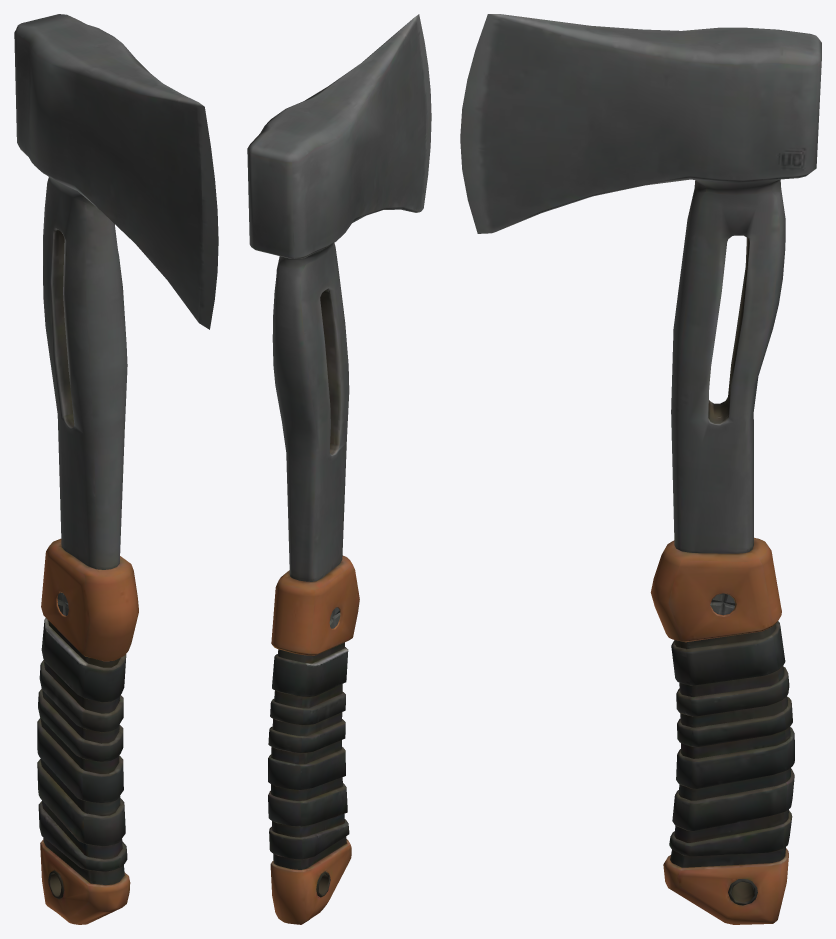
Rendered from hachuela.glb.
The picture shows the model from 3 angles, left to right: view 1: azimuth 30°, elevation 25°; view 2: azimuth 150°, elevation 25°; view 3: azimuth 270°, elevation 25°; orthographic projection. The views are drawn at different scales.
Visible parts, largest first — view 1: hatchet_1k(Clone); view 2: hatchet_1k(Clone); view 3: hatchet_1k(Clone).
Boxes of the visible parts, x1,y1,x2,y2 form: hatchet_1k(Clone): (14, 14, 218, 924); hatchet_1k(Clone): (247, 14, 431, 924); hatchet_1k(Clone): (460, 14, 821, 924).
Size of the model in its own units: 0.0257 by 0.2887 by 0.1043.
1 material, 1 textured.
